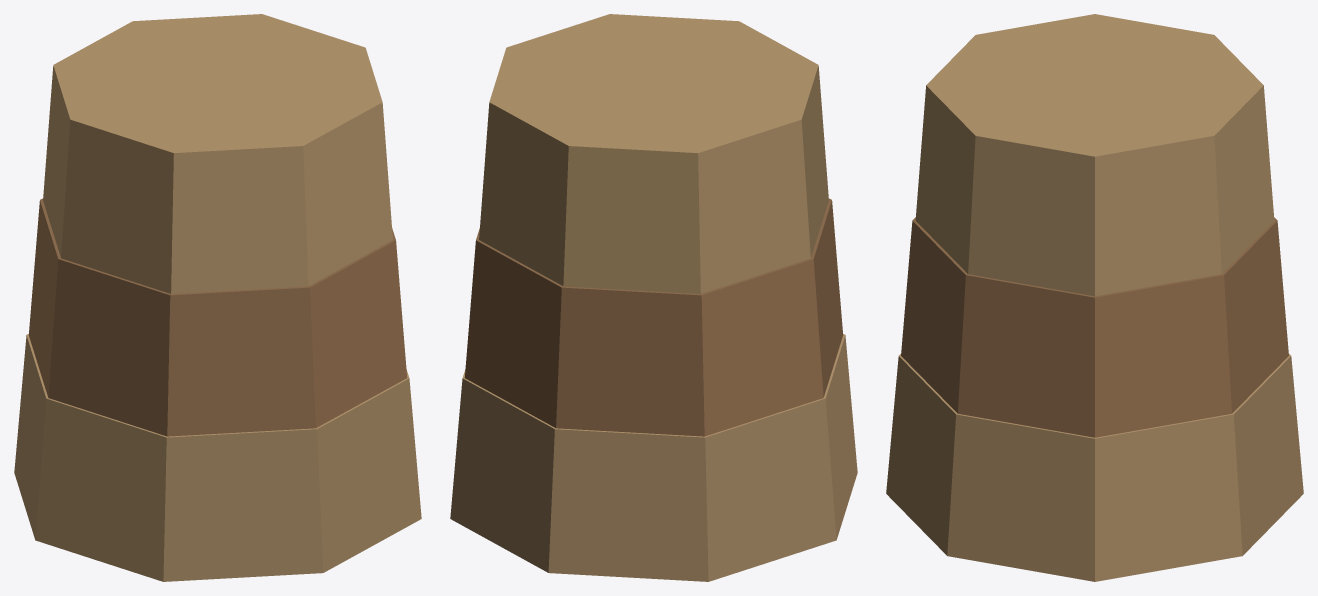
Rendered from desert-rock-2.glb.
The picture shows the model from 3 angles, left to right: view 1: azimuth 30°, elevation 25°; view 2: azimuth 150°, elevation 25°; view 3: azimuth 270°, elevation 25°; orthographic projection.
Visible parts, largest first — view 1: desert-rock-2; view 2: desert-rock-2; view 3: desert-rock-2.
Part boxes in pixels (x1,y1,x2,y2): desert-rock-2: [14, 14, 421, 581]; desert-rock-2: [450, 14, 857, 581]; desert-rock-2: [886, 14, 1303, 581].
Bounding box in the file's own units: 1.4 × 1.51 × 1.4.
